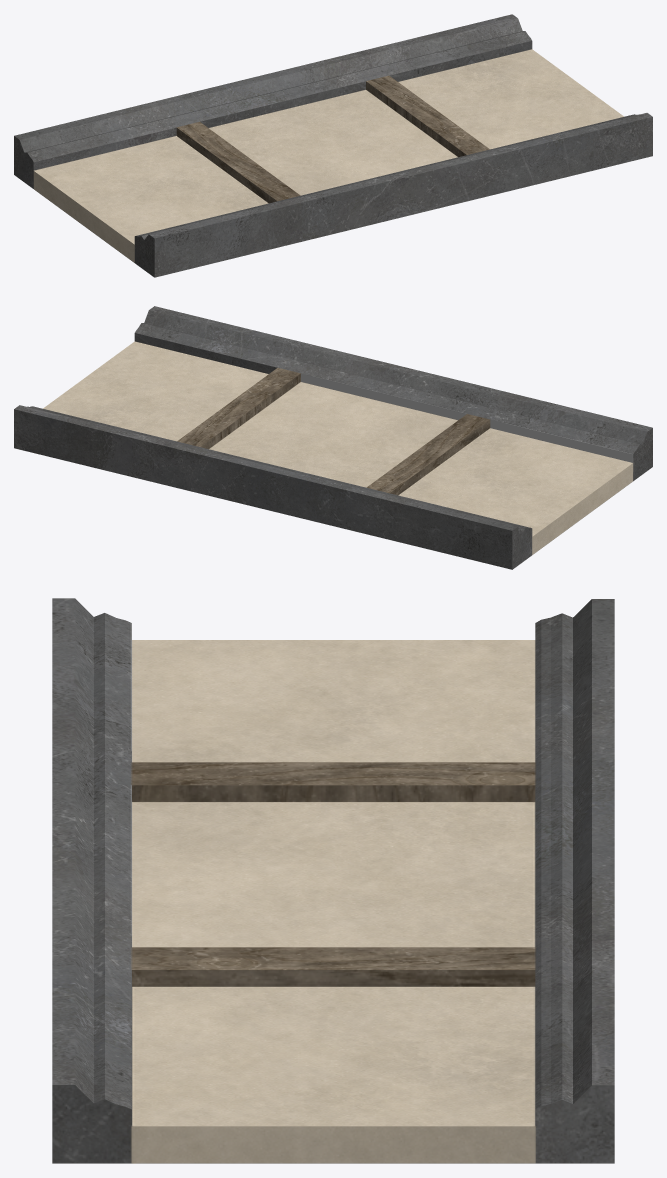
The model's file is chinese_wall.fbx.
3 views of the same model, one above another, from view 1: azimuth 30°, elevation 25°; view 2: azimuth 150°, elevation 25°; view 3: azimuth 270°, elevation 25° (orthographic). The views are drawn at different scales.
Parts seen in each view (by area): view 1: wall_low; view 2: wall_low; view 3: wall_low.
Boxes of the visible parts, x1,y1,x2,y2 form: wall_low: [14, 14, 652, 277]; wall_low: [14, 306, 652, 569]; wall_low: [52, 598, 614, 1163].
Size of the model in its own units: 615 by 46.3 by 300.
1 material, 1 textured.
